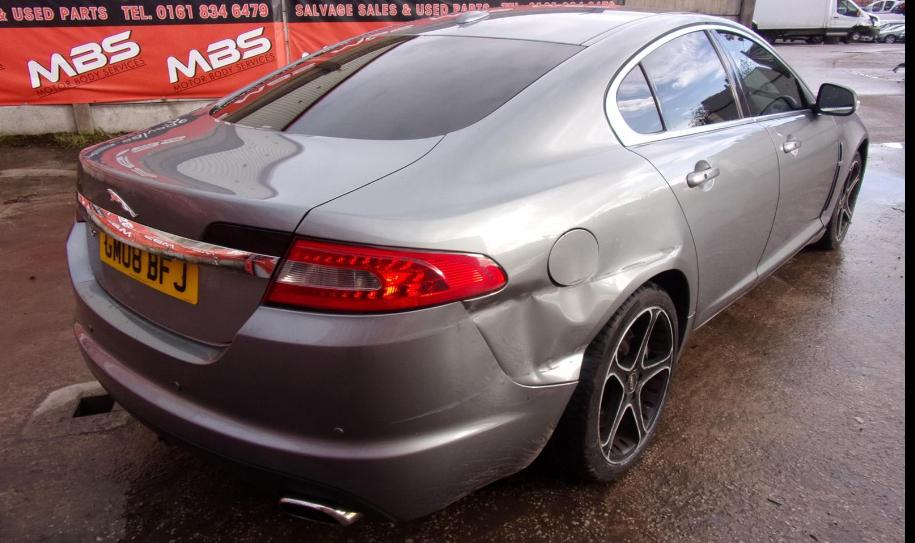Back-bumper: (70, 225, 578, 525)
Back-door: (604, 23, 779, 329)
Back-wheel: (580, 293, 679, 485)
Back-window: (644, 31, 741, 129), (616, 65, 663, 136)
Back-windshield: (215, 33, 593, 138)
Fender: (821, 113, 869, 228)
Front-door: (706, 23, 840, 279)
Front-wheel: (816, 154, 862, 251)
Front-window: (714, 32, 813, 116)
License-plate: (98, 234, 199, 308)
Mirror: (809, 84, 858, 117)
Quarter-panel: (298, 101, 698, 385)
Rocker-panel: (694, 230, 826, 337)
Roof: (370, 6, 719, 45)
Tail-light: (262, 234, 507, 317)
Trunk: (79, 103, 444, 346)
